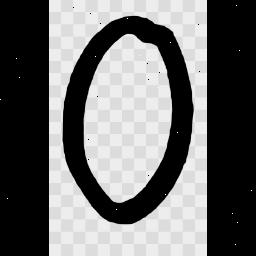o: (59, 12, 199, 228)
